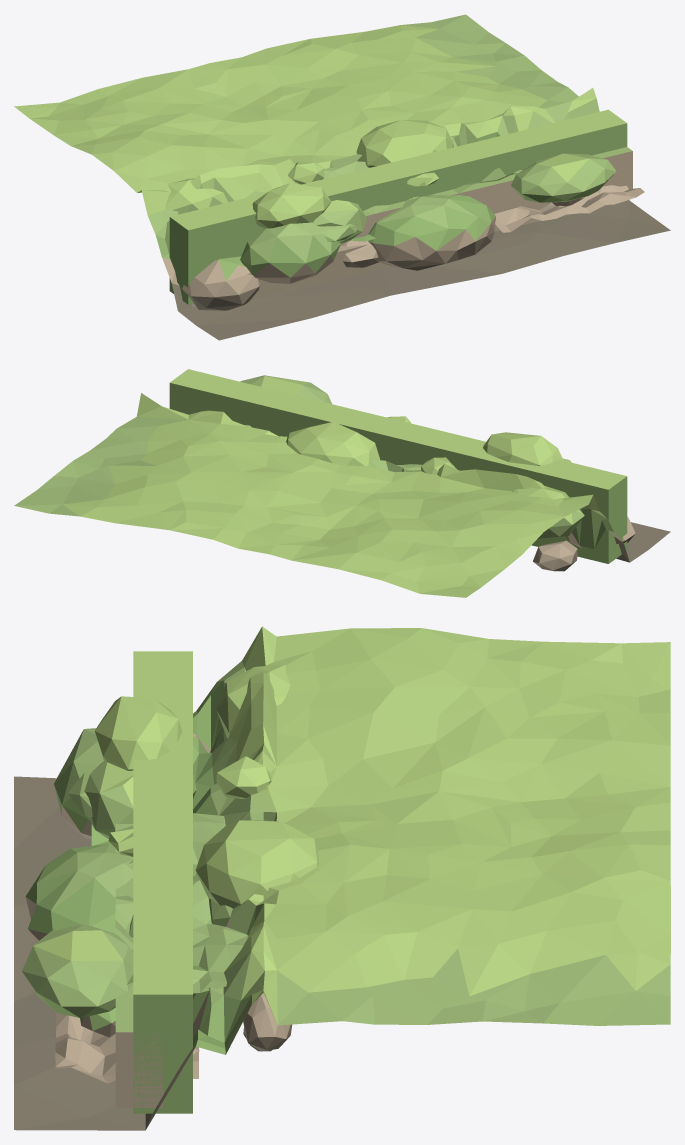
Rendered from cliff_unified.glb.
3 views of the same model, one above another, from view 1: azimuth 30°, elevation 25°; view 2: azimuth 150°, elevation 25°; view 3: azimuth 270°, elevation 25° (orthographic). The views are drawn at different scales.
Parts seen in each view (by area): view 1: Cliff; view 2: Cliff; view 3: Cliff.
Part boxes in pixels (x1,y1,x2,y2): Cliff: [14, 14, 670, 340]; Cliff: [14, 369, 670, 597]; Cliff: [14, 626, 670, 1130].
Bounding box in the file's own units: 70.02 × 17.9 × 55.02.
